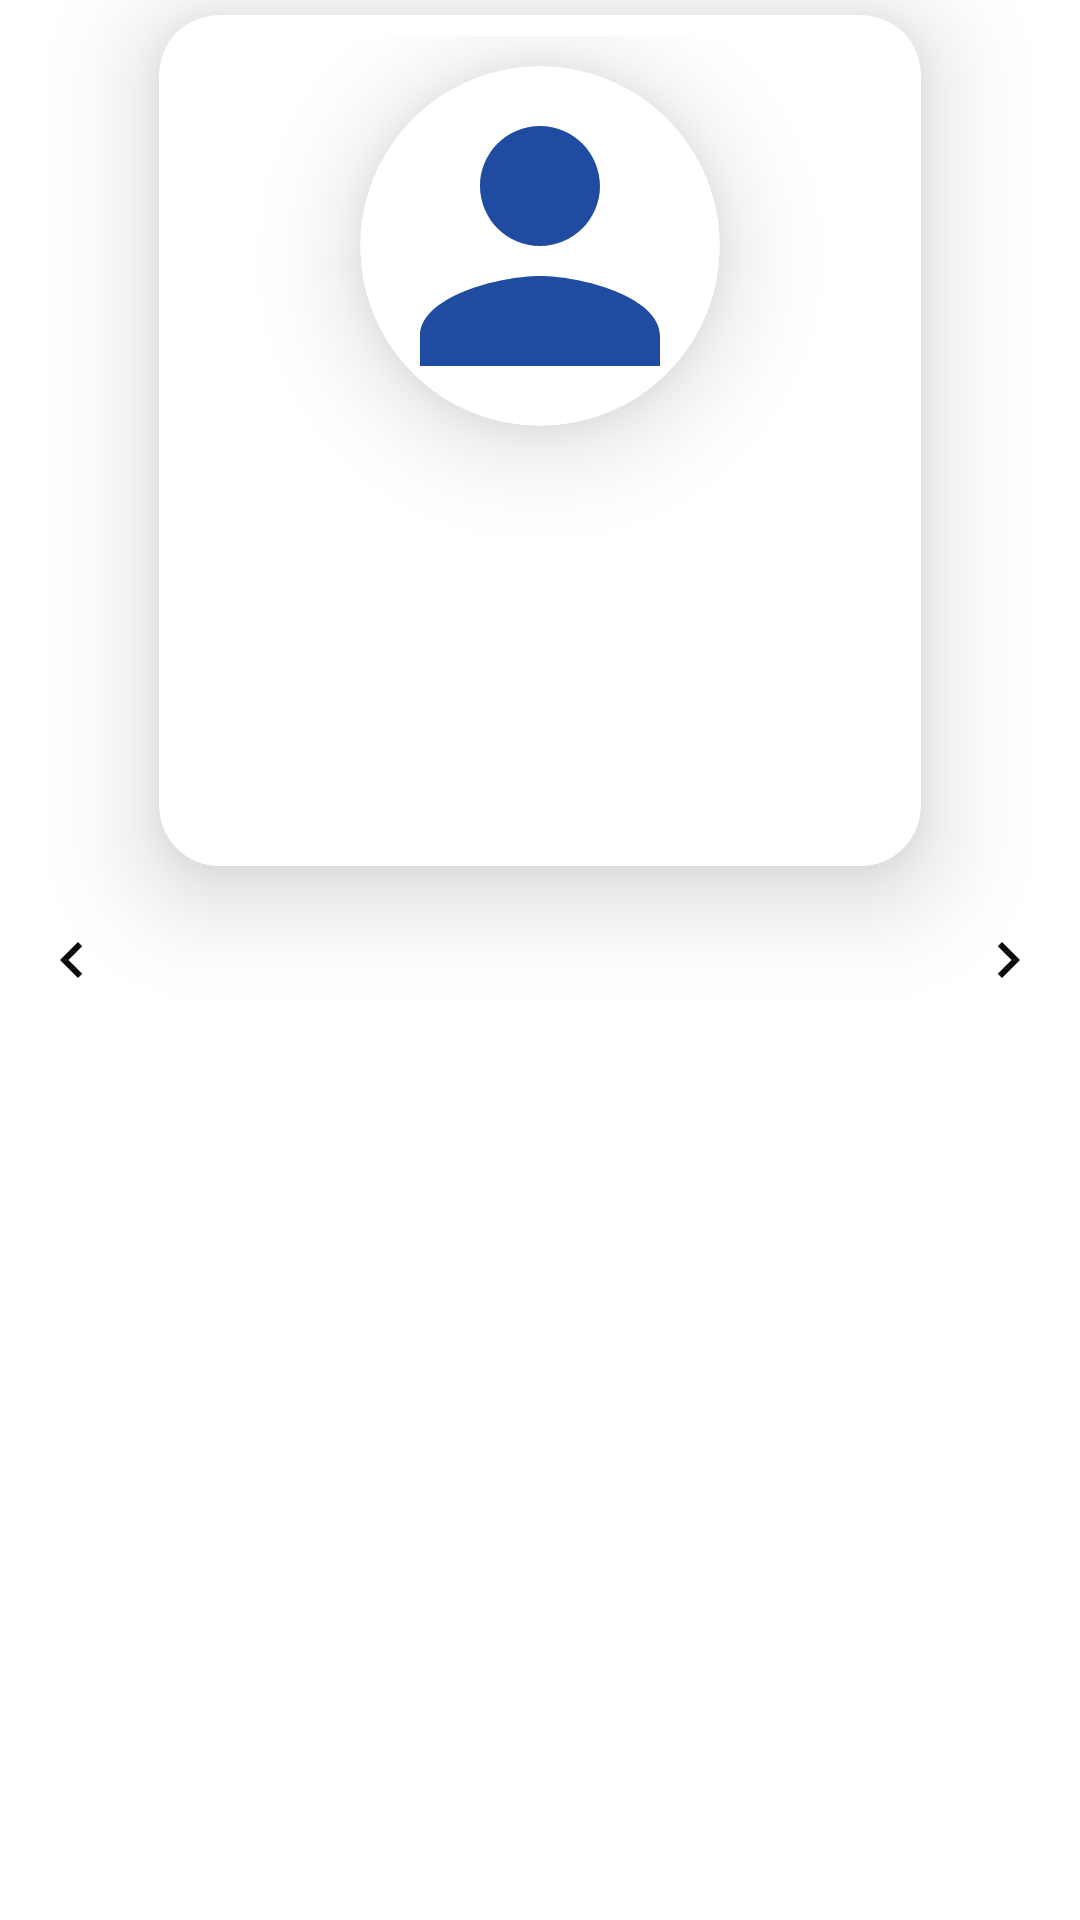

Where icons sit on this 1080*1920 app screen, as (x1, y1, x2, y2):
navigate before: (60, 942, 82, 978)
navigate next: (998, 942, 1020, 978)
person: (420, 126, 660, 366)
